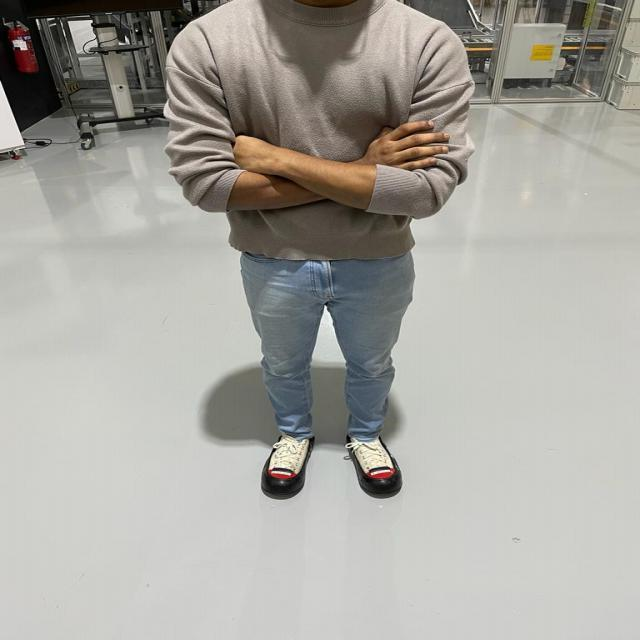shoes: (257, 424, 318, 500), (340, 429, 402, 503)
